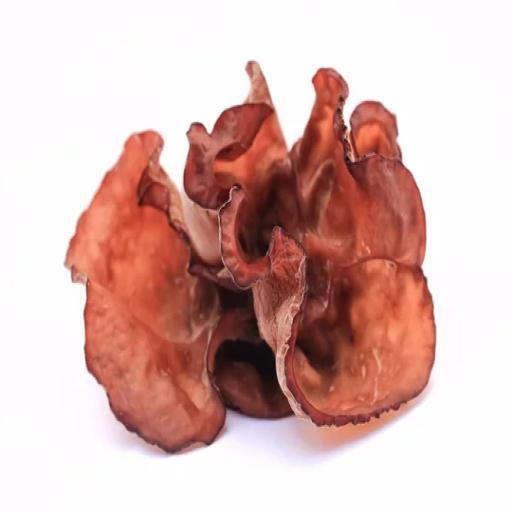mushroom: (47, 44, 455, 458)
